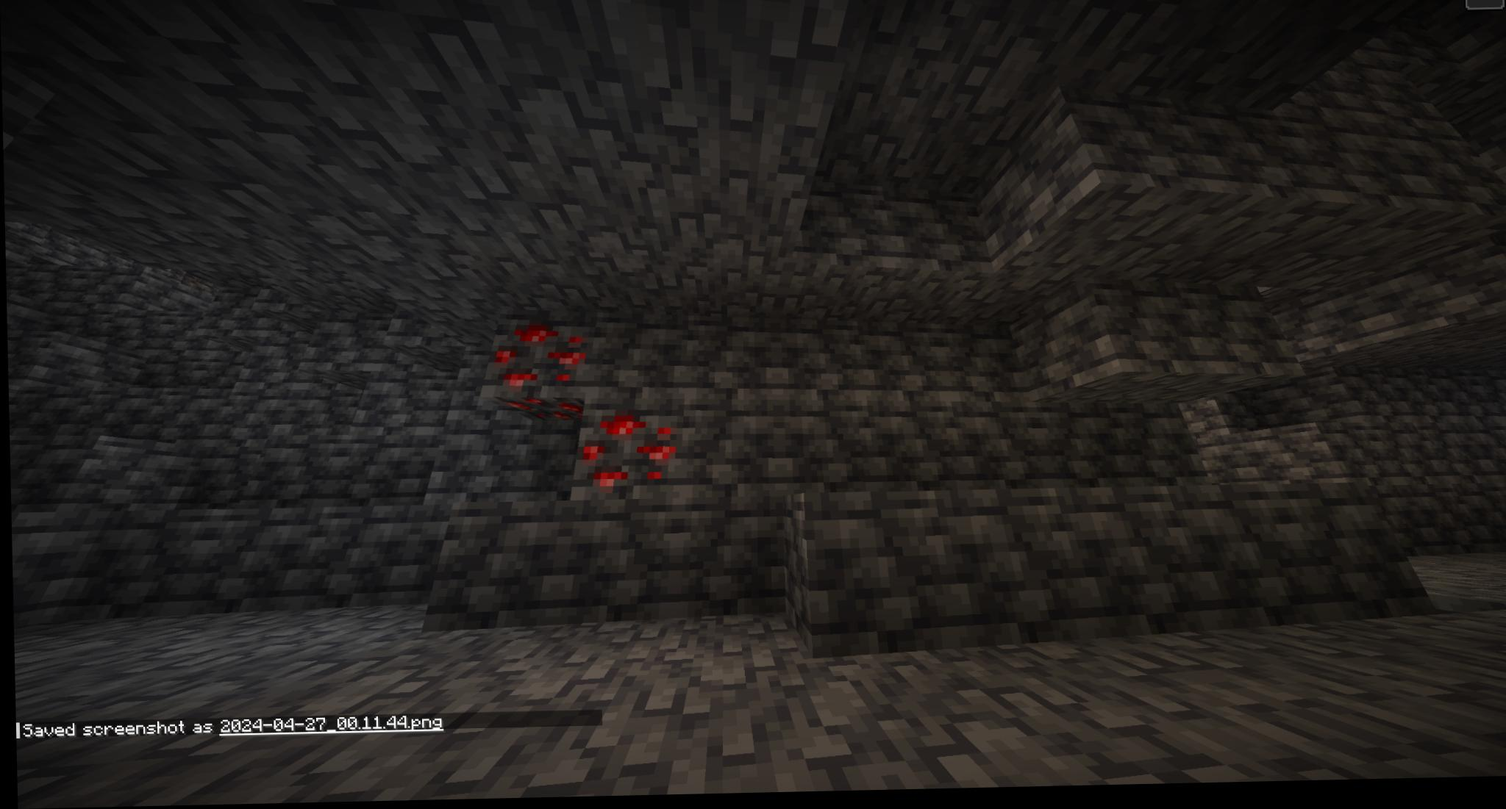redstone ore: (486, 328, 590, 427), (575, 416, 680, 508)
